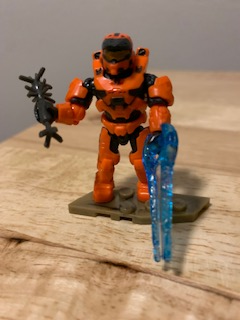spartan: (32, 31, 178, 206)
